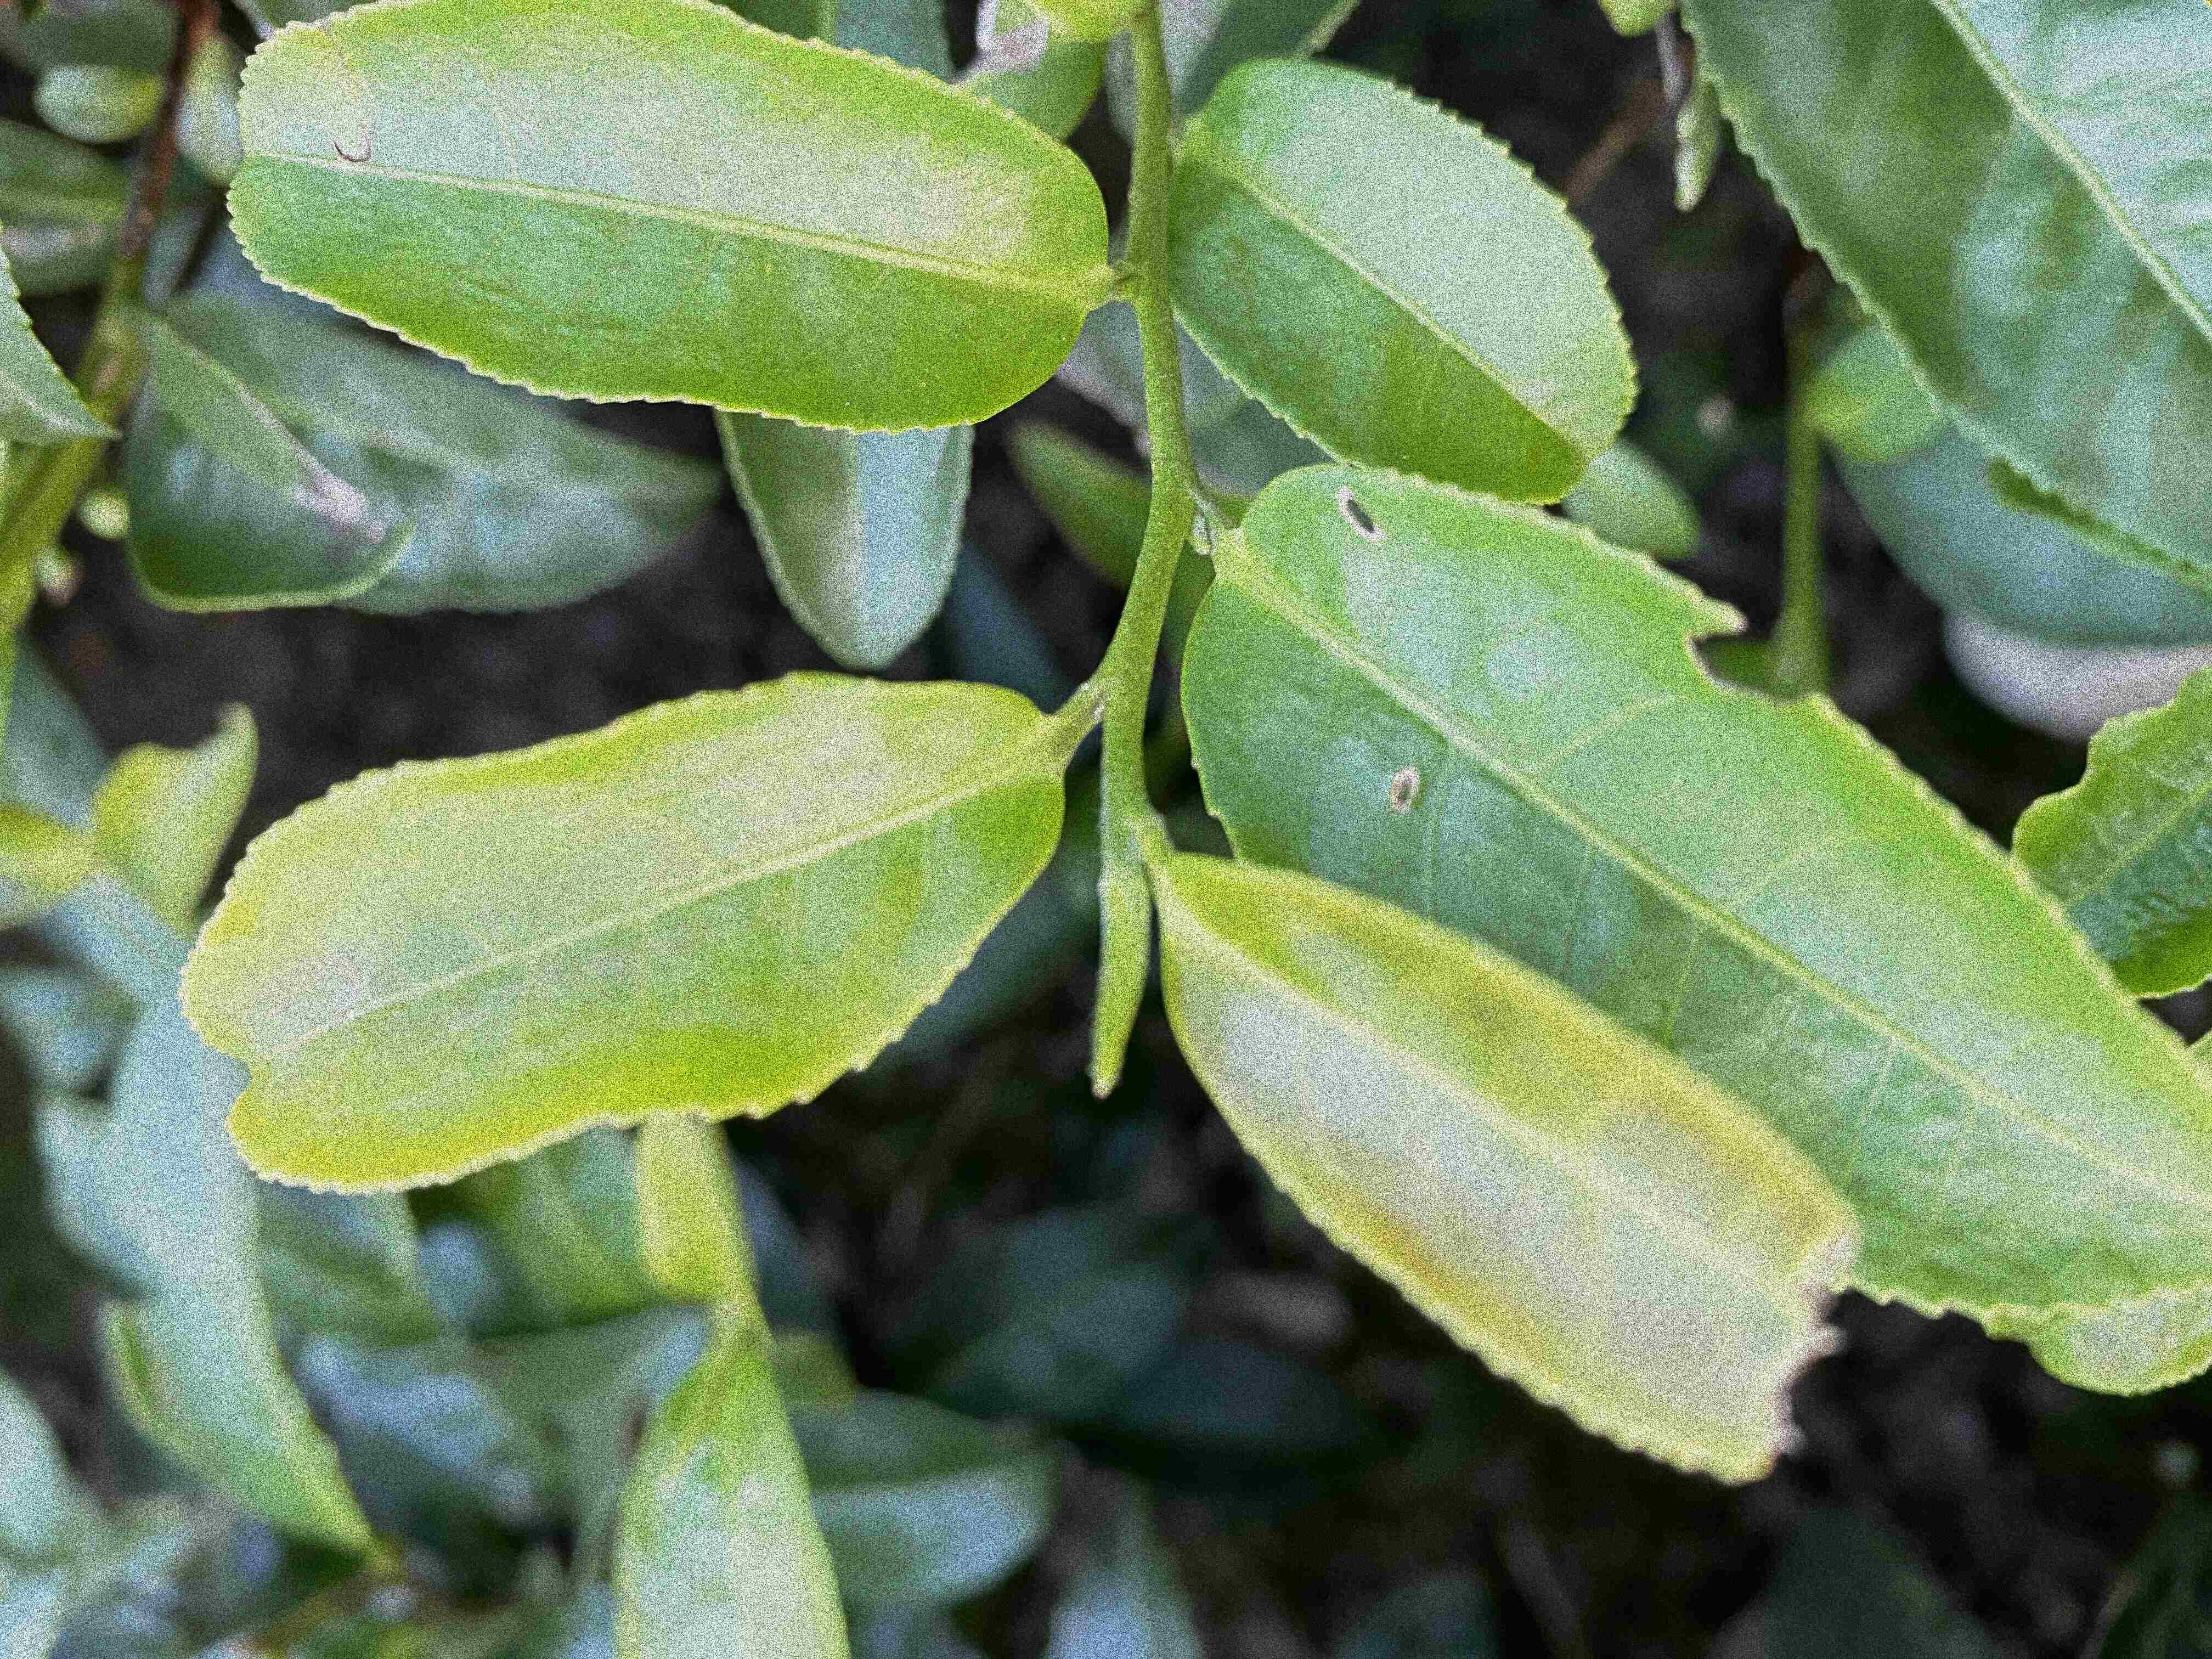chihuo_high: (1174, 465, 2209, 1324)
chihuo_low: (1158, 854, 1860, 1486)
healthy: (176, 666, 1066, 1197), (1165, 52, 1639, 505)
tanju_low: (225, 2, 1113, 437)
